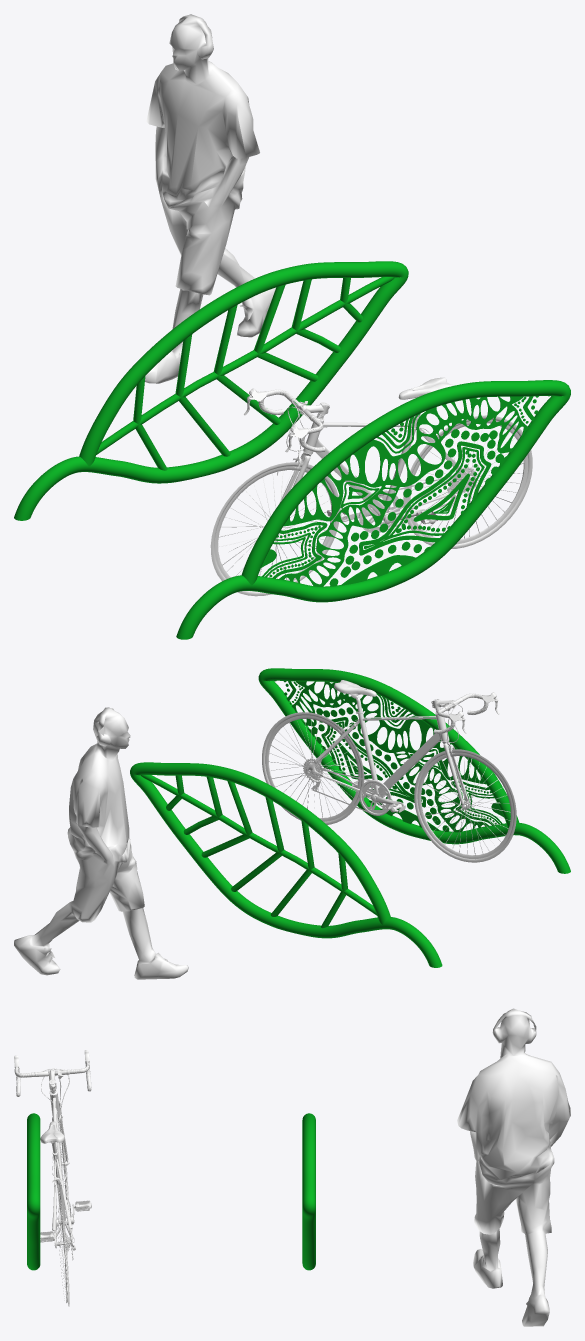
3 views of the same model, one above another, from view 1: azimuth 30°, elevation 25°; view 2: azimuth 150°, elevation 25°; view 3: azimuth 270°, elevation 25° (orthographic). The views are drawn at different scales.
Parts seen in each view (by area): view 1: Object_006, Shape1, Line004, Line001, Bike2, Line002; view 2: Object_006, Bike2, Line001, Shape1, Line004, Line002; view 3: Object_006, Bike2, Line001, Line004.
Boxes of the visible parts, box(x1,y1,x2,y2) form: Object_006: box(145, 14, 275, 383); Shape1: box(261, 396, 549, 586); Line004: box(176, 380, 570, 639); Line001: box(14, 261, 408, 520); Bike2: box(210, 377, 532, 596); Line002: box(96, 277, 394, 470); Object_006: box(14, 707, 188, 979); Bike2: box(262, 680, 516, 862); Line001: box(130, 762, 442, 967); Shape1: box(274, 680, 503, 832); Line004: box(258, 668, 570, 873); Line002: box(141, 775, 377, 928); Object_006: box(457, 1008, 570, 1326); Bike2: box(14, 1050, 91, 1306); Line001: box(302, 1113, 315, 1270); Line004: box(27, 1113, 40, 1270).
Size of the model in its own units: 2.34 by 1.9 by 3.32.
